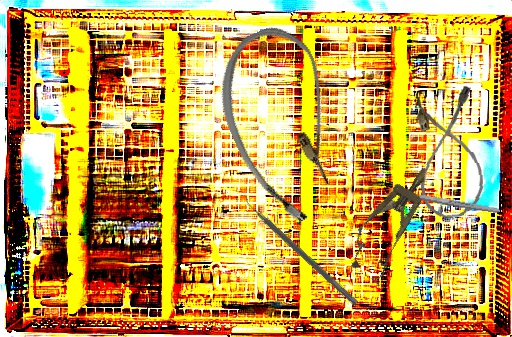Cannula: (198, 16, 371, 233), (412, 85, 487, 221)
Spatula Surgical: (239, 193, 363, 306)
Speculum: (338, 155, 446, 287)
Surgical Spoon: (384, 187, 501, 215)
